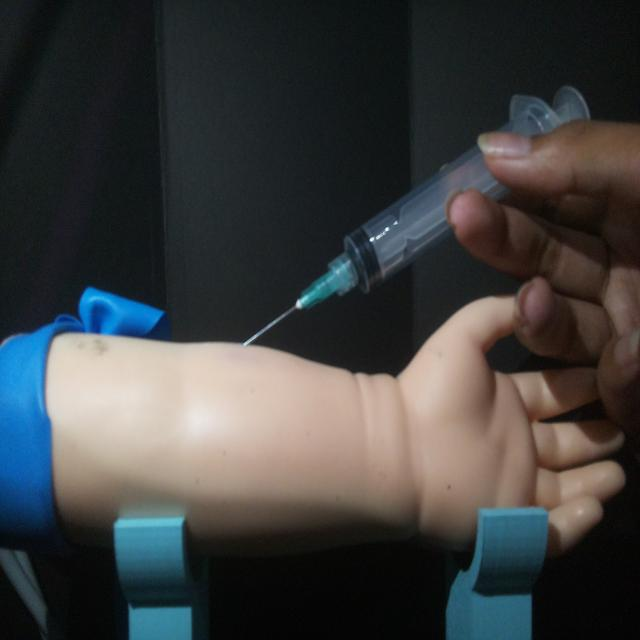30deg: (237, 80, 593, 350)
